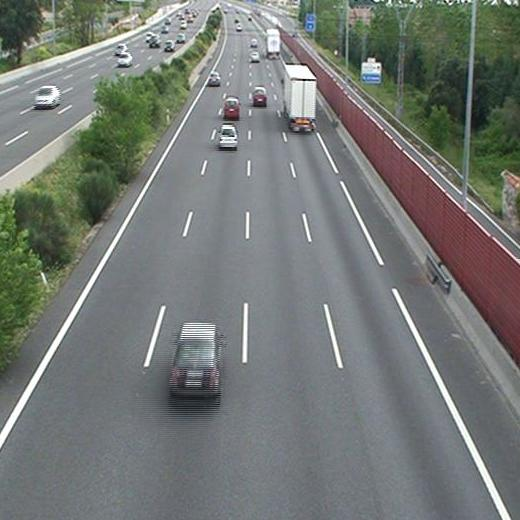car: (170, 324, 219, 394), (218, 125, 237, 147), (223, 98, 240, 116), (253, 85, 267, 104), (208, 71, 219, 87), (250, 51, 261, 62)
truck: (284, 65, 315, 130), (265, 27, 279, 58)
